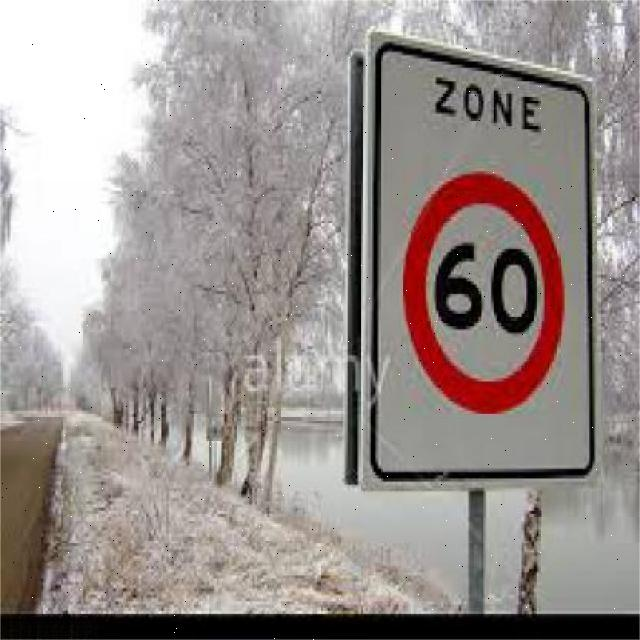speed limit 60: (402, 171, 566, 414)
